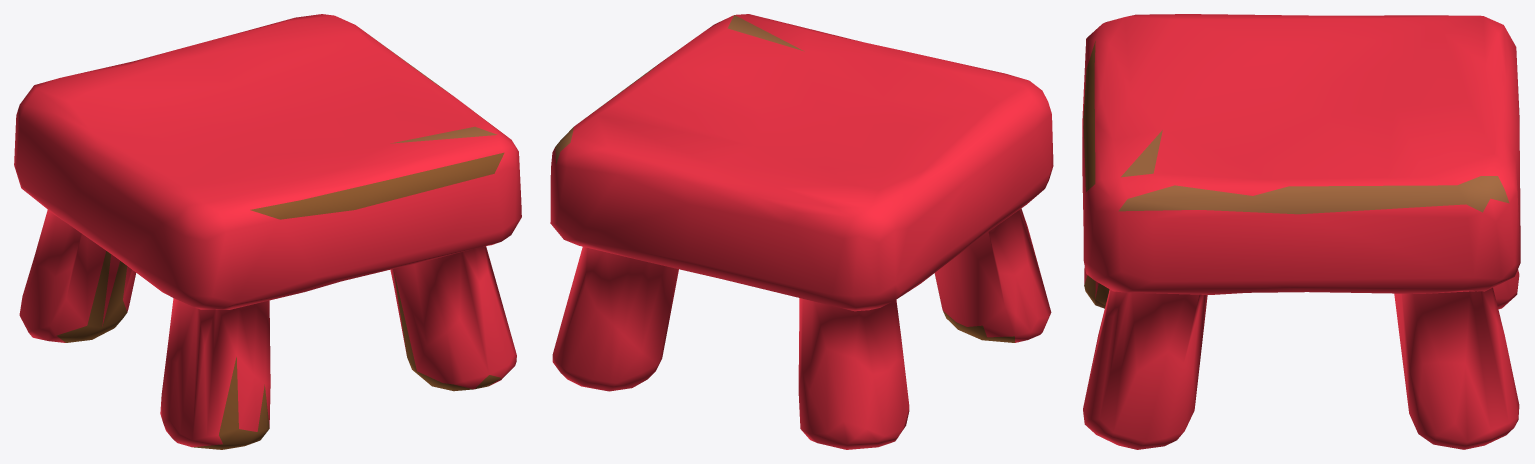
The model's file is SM_stool_red.fbx.
3 renders of one model, left to right at view 1: azimuth 30°, elevation 25°; view 2: azimuth 150°, elevation 25°; view 3: azimuth 270°, elevation 25°, orthographic. The views are drawn at different scales.
Parts seen in each view (by area): view 1: SM_stool_red; view 2: SM_stool_red; view 3: SM_stool_red.
Part boxes in pixels (x1=…): SM_stool_red: x1=14, y1=14, x2=521, y2=449; SM_stool_red: x1=550, y1=14, x2=1053, y2=449; SM_stool_red: x1=1082, y1=14, x2=1520, y2=449.
Size of the model in its own units: 67.79 by 45 by 66.87.
1 material, 1 textured.
